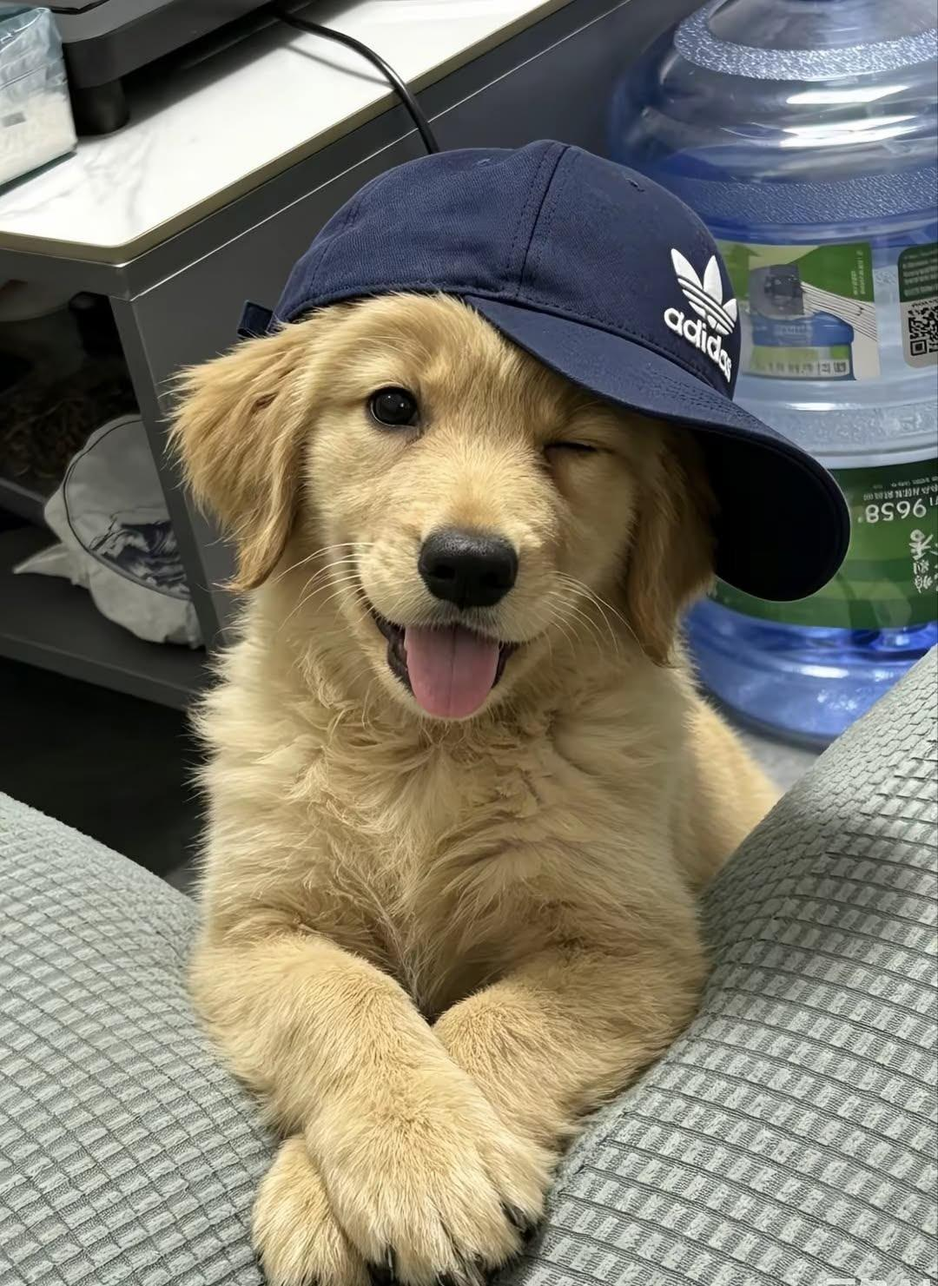puppy-dog: (162, 287, 781, 1286)
